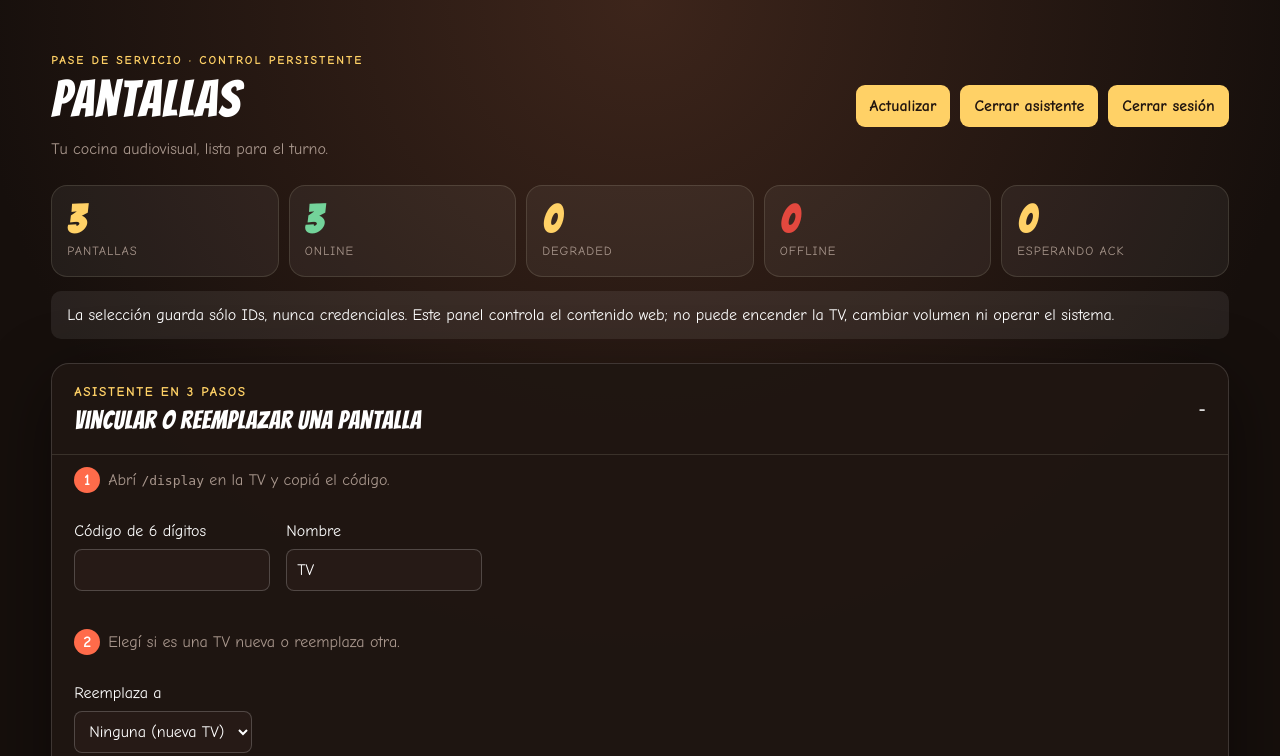
Test: ControlRoute › does not preselect the first configured teams for a new pairing
Type "123456" into the field labelled "Código de 6 dígitos" at (172, 570), box [74, 548, 270, 590]
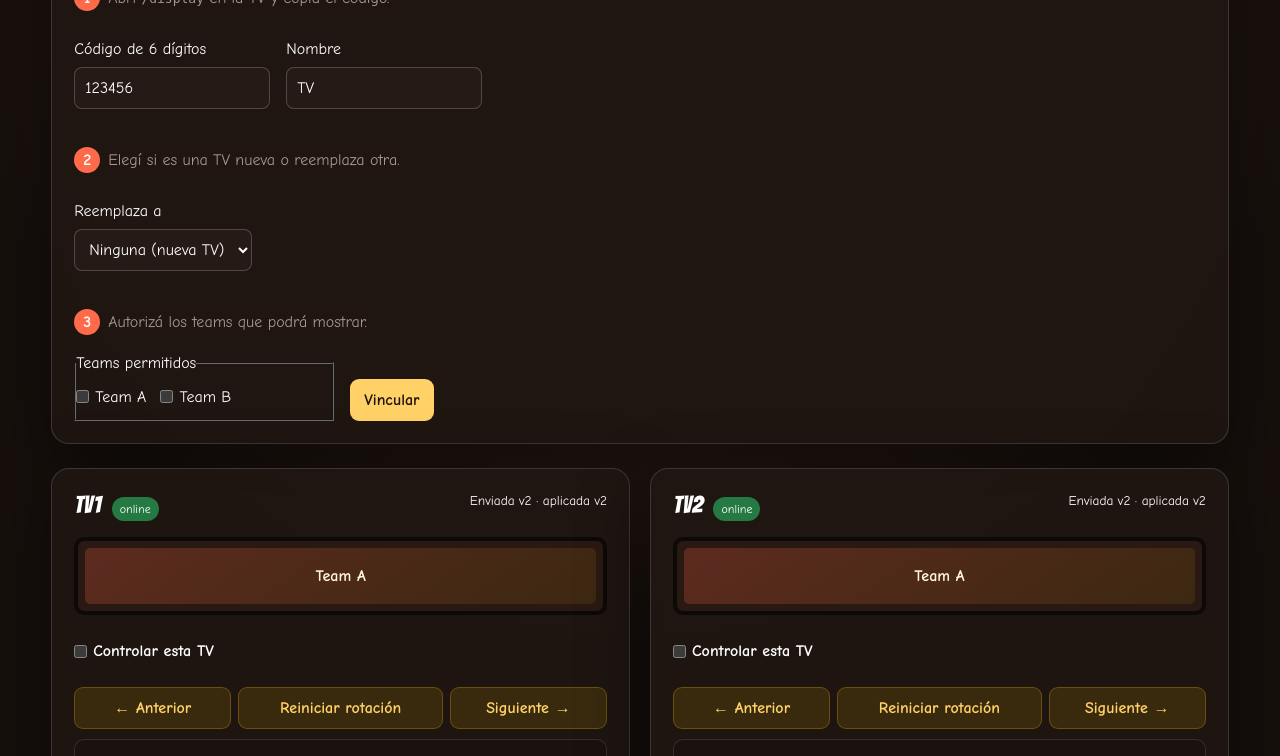
Click the button "Vincular" at (392, 400), box [350, 378, 434, 420]
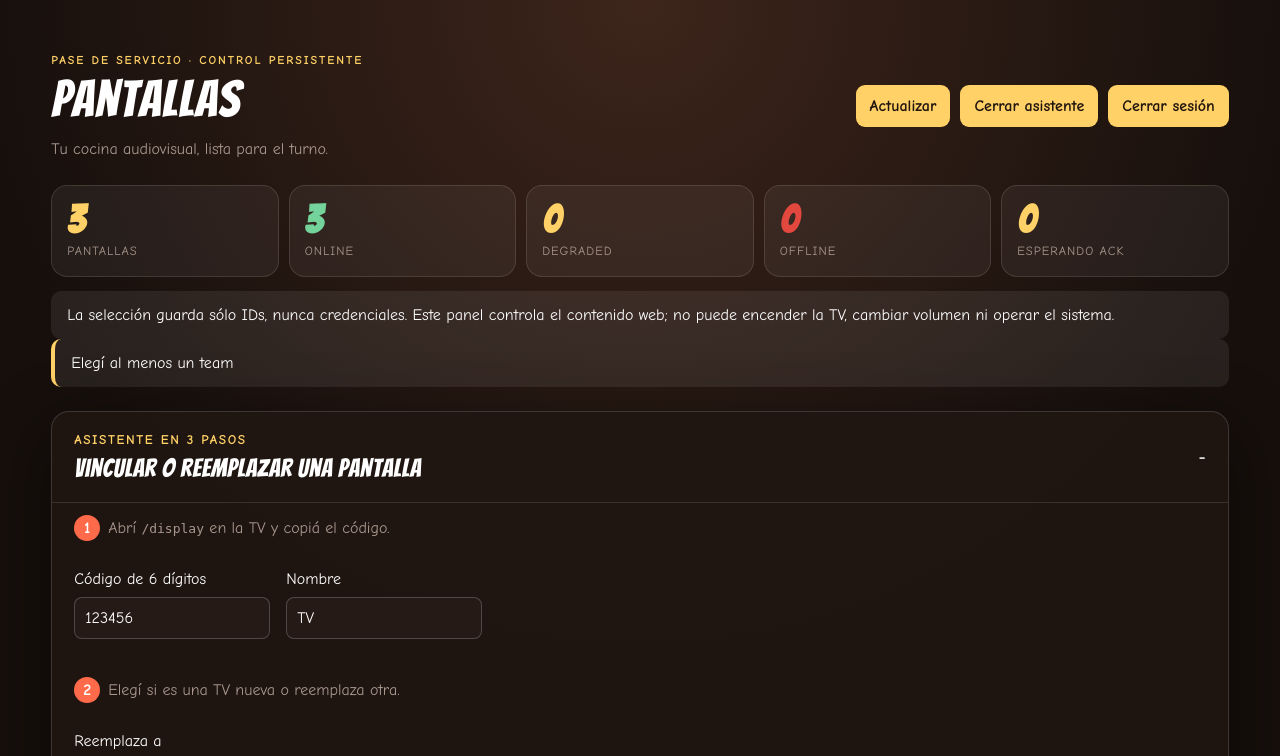
Expected: the text "Elegí al menos un team" is shown, [51, 339, 1229, 387]
